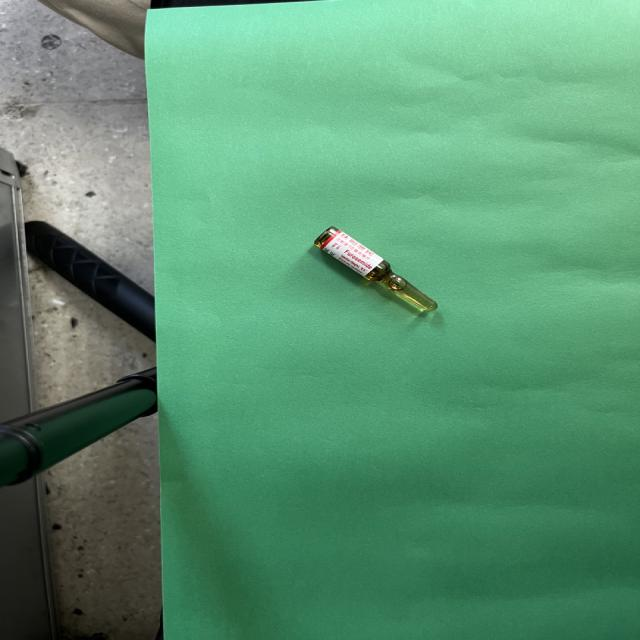Ampoules: (315, 226, 437, 312)
